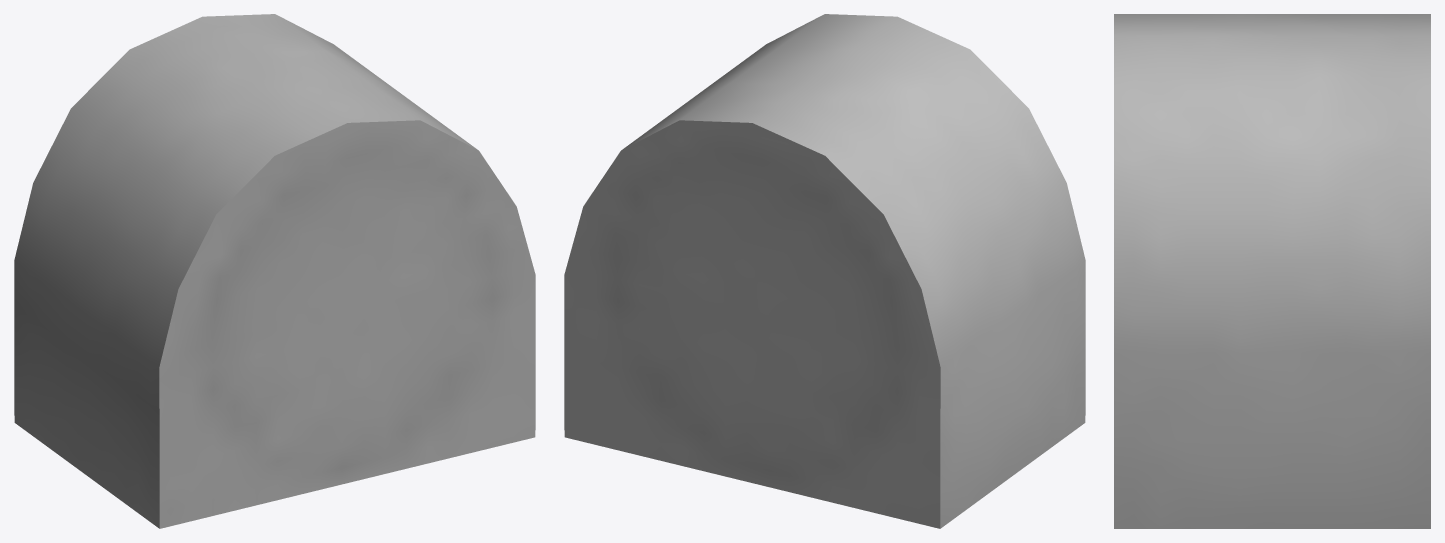
The model's file is SM_CabelSupport2.fbx.
3 views of the same model, side by side, from view 1: azimuth 30°, elevation 25°; view 2: azimuth 150°, elevation 25°; view 3: azimuth 270°, elevation 25° (orthographic). The views are drawn at different scales.
Visible parts, largest first — view 1: SM_CabelSupport2_LOD0; view 2: SM_CabelSupport2_LOD0; view 3: SM_CabelSupport2_LOD0.
Part boxes in pixels (x1,y1,x2,y2): SM_CabelSupport2_LOD0: (14, 14, 535, 528); SM_CabelSupport2_LOD0: (564, 14, 1085, 528); SM_CabelSupport2_LOD0: (1114, 14, 1430, 528).
Size of the model in its own units: 3.49 by 2.33 by 3.19.
